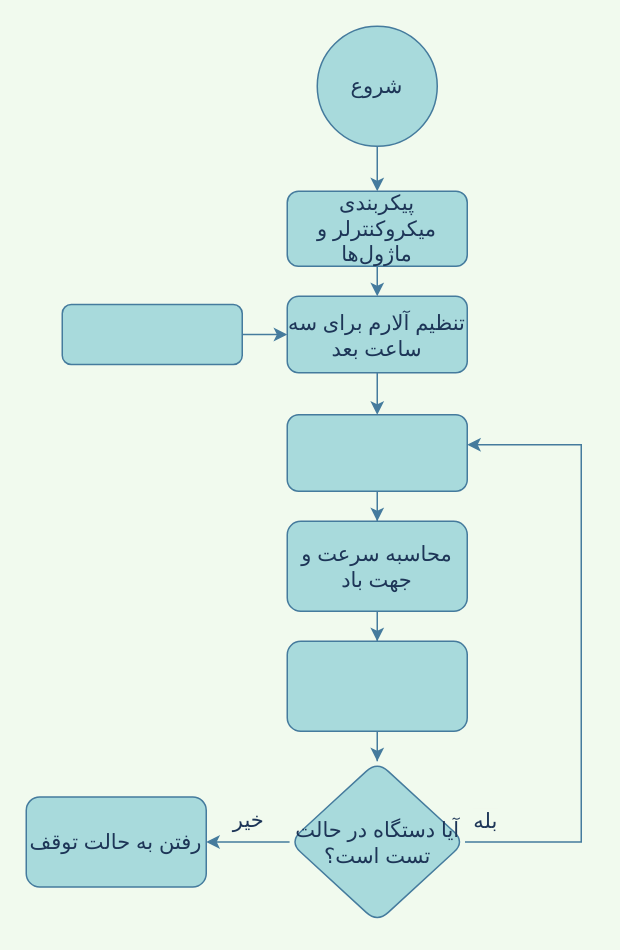
This 620x950 diagram has some shape labels left out. Here are the shapes that lost their labels. From the top down, the centre of each, then its label:
At [151,333]: "رخ دادن آلارم".
At [376,452]: "خواندن اطلاعات از سنسور‌ها".
At [376,685]: "ارسال داده‌های جمع آوری و محاسبه شده توسط ماژول لورا".
